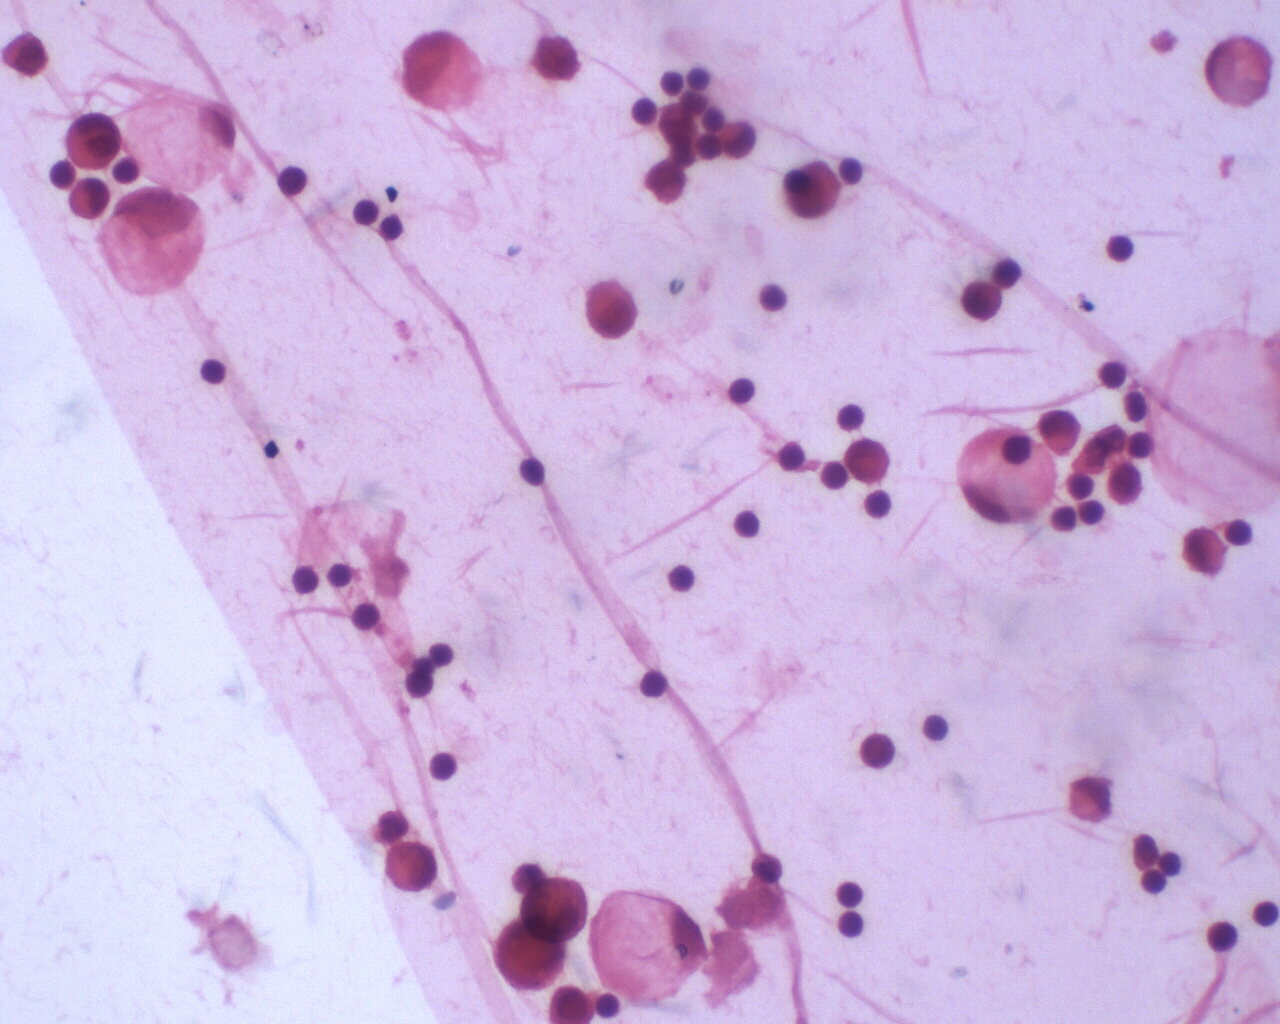ab: (521, 872, 592, 940), (64, 110, 125, 170), (381, 838, 441, 897), (5, 25, 55, 84), (1106, 457, 1151, 505), (545, 985, 597, 1024)
histo: (585, 877, 714, 1005), (98, 183, 214, 302), (115, 79, 238, 189), (955, 415, 1066, 527)
lymph: (997, 428, 1039, 472), (1201, 917, 1242, 961), (428, 743, 467, 787), (275, 164, 316, 203), (637, 665, 674, 705), (1101, 232, 1142, 266), (861, 487, 898, 522), (836, 400, 870, 437), (1224, 518, 1260, 553), (732, 506, 766, 543), (350, 195, 382, 233), (665, 560, 699, 595), (1098, 355, 1131, 391), (727, 372, 757, 409), (839, 153, 868, 189), (1080, 498, 1111, 530)
meso: (582, 275, 645, 344)
